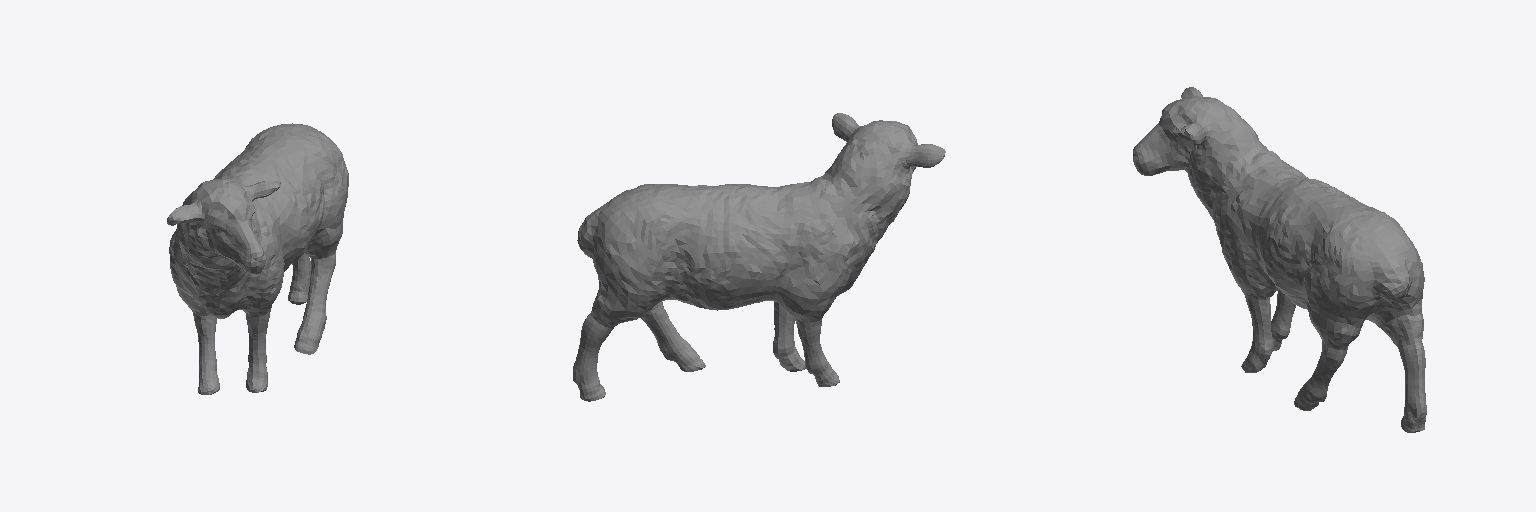
File: sheep.obj
3 renders of one model, left to right at view 1: azimuth 30°, elevation 25°; view 2: azimuth 150°, elevation 25°; view 3: azimuth 270°, elevation 25°, orthographic.
Visible parts, largest first — view 1: sheep; view 2: sheep; view 3: sheep.
Part boxes in pixels (x1,y1,x2,y2): sheep: (167,123,348,394); sheep: (573,113,945,401); sheep: (1133,87,1426,432).
Bounding box in the file's own units: 61.09 × 52.96 × 58.78.